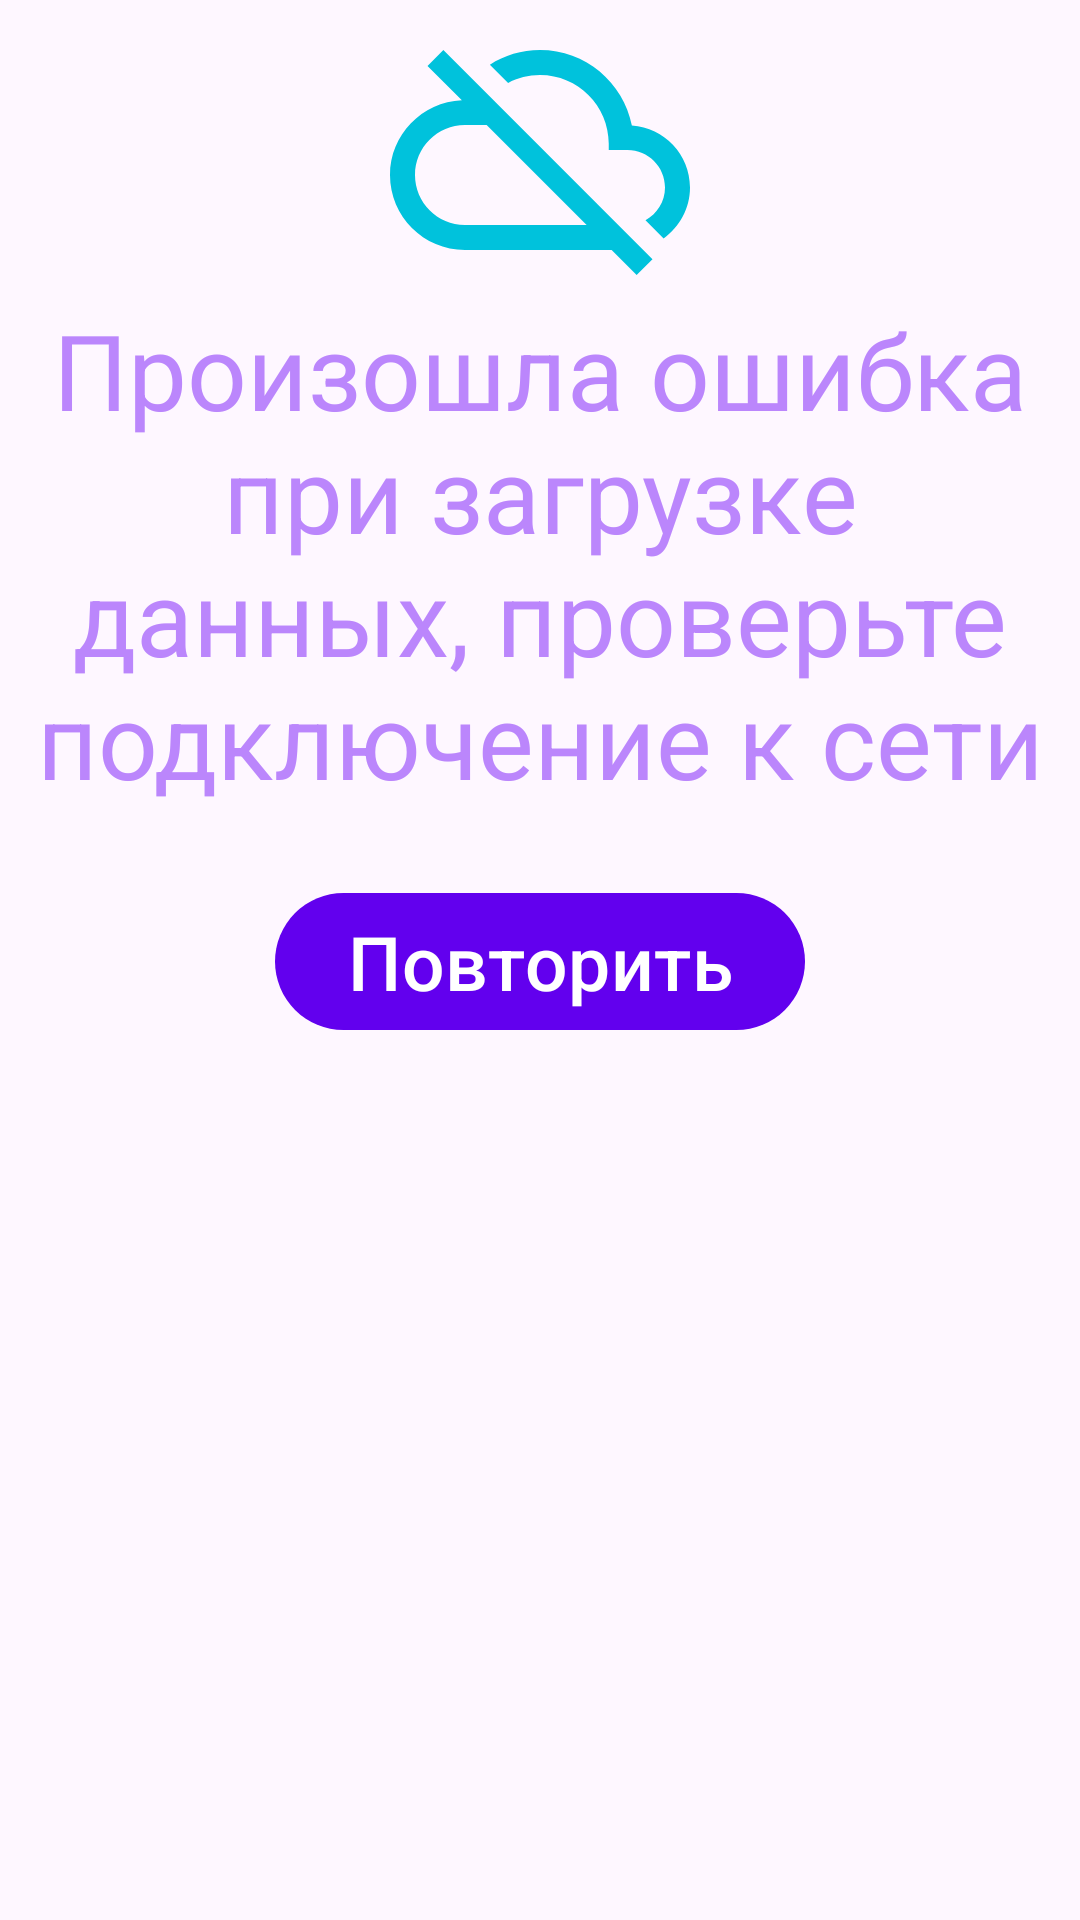

Icon bounding boxes for this 1080px x 1920px phone screenshot, format (left=x1, top=y1, right=x2, bottom=y2):
cloud off: (left=390, top=50, right=690, bottom=275)
